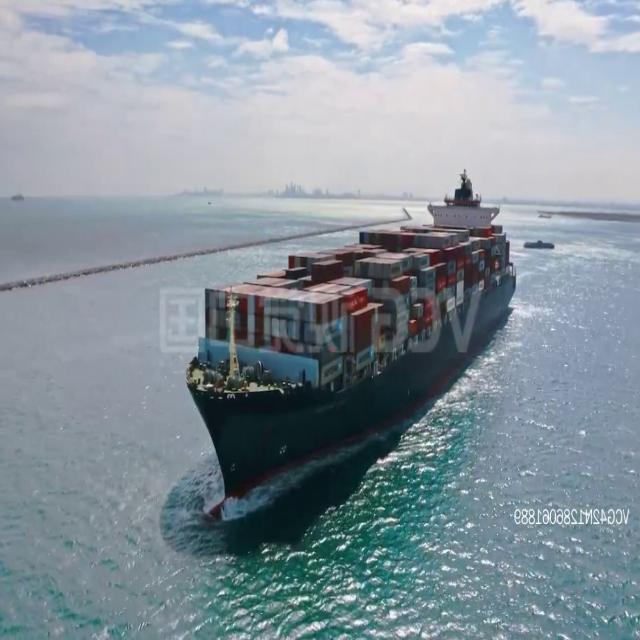cargoship: (184, 166, 513, 522)
